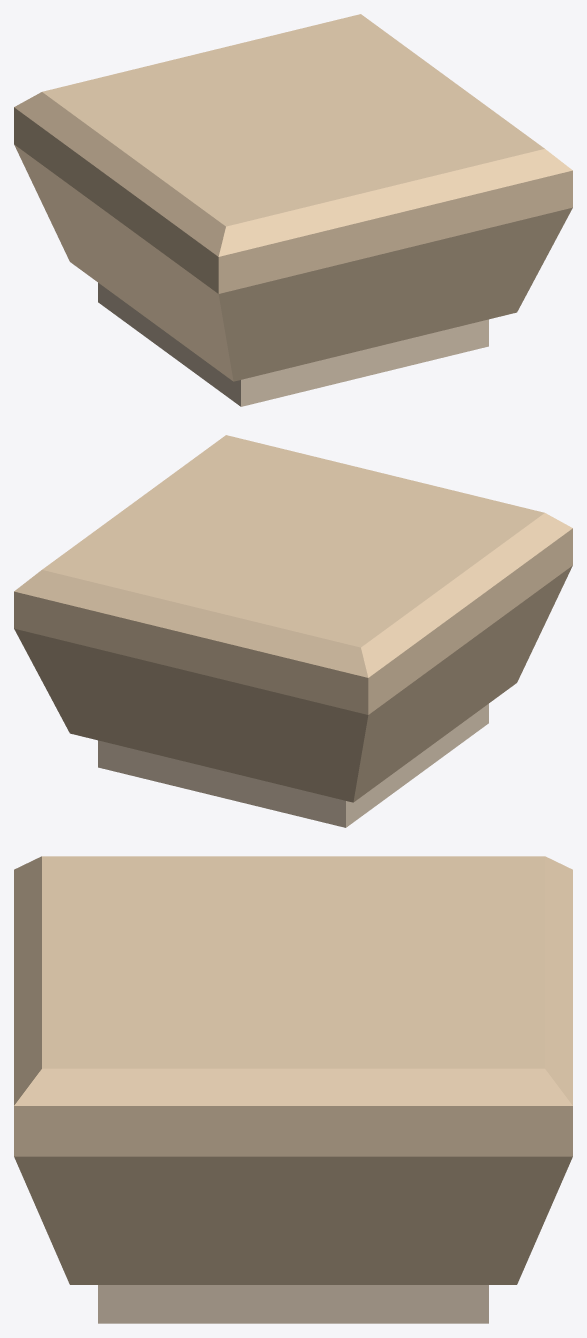
The picture shows the model from 3 angles, top to bottom: view 1: azimuth 30°, elevation 25°; view 2: azimuth 150°, elevation 25°; view 3: azimuth 270°, elevation 25°; orthographic projection. The views are drawn at different scales.
Parts seen in each view (by area): view 1: object1.006; view 2: object1.006; view 3: object1.006.
Part boxes in pixels (x1,y1,x2,y2): object1.006: [14, 14, 572, 406]; object1.006: [14, 435, 572, 827]; object1.006: [14, 856, 572, 1323].
Size of the model in its own units: 1 by 0.55 by 1.
